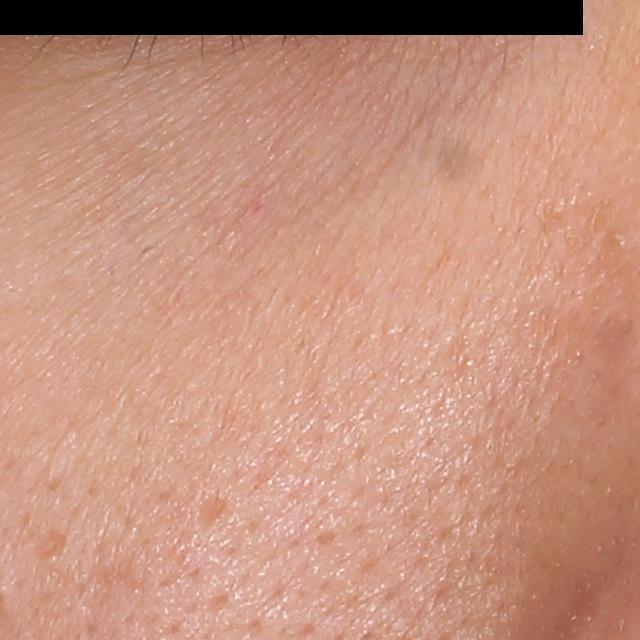atrophic_scar: (190, 492, 229, 532), (29, 528, 68, 559)
